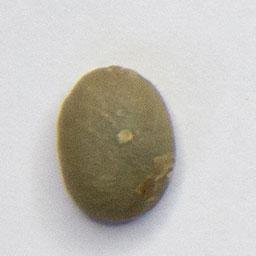premium: (52, 59, 180, 228)
